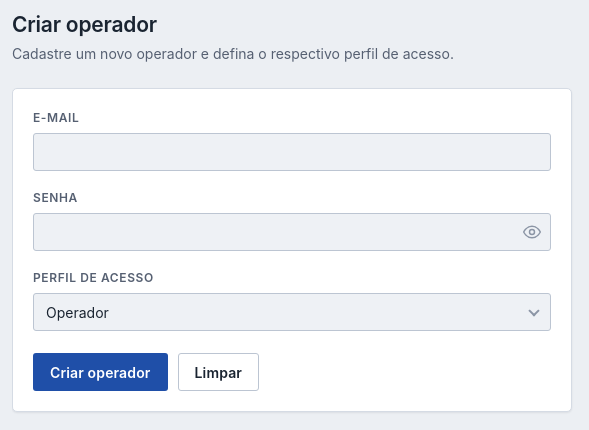
CreateOperatorPage › envia e-mail, senha e perfil e mostra identificador, e-mail e perfil do operador criado
Type "nova@example.test" into the field labelled "E-mail". click: (292, 152)
box: left=33, top=133, right=551, bottom=171
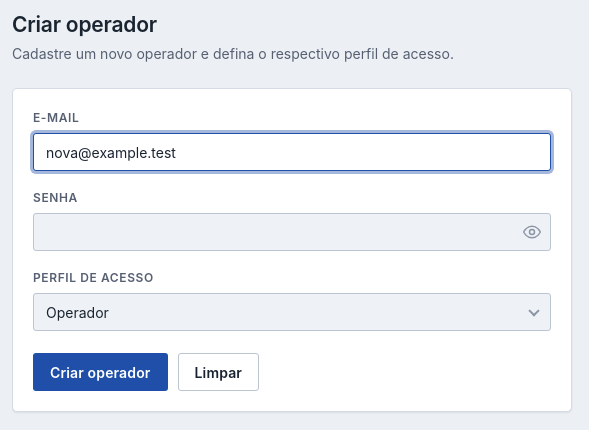
Type "senha-secreta" into the password field labelled "Senha". click: (292, 232)
box: left=33, top=213, right=551, bottom=251
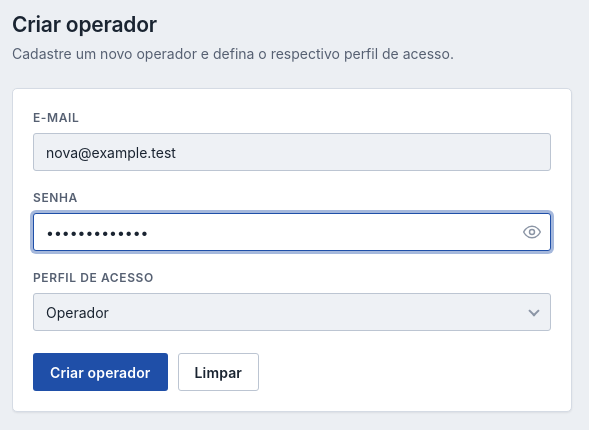
Select "Administrador" in the dropdown labelled "Perfil de acesso". click: (292, 312)
box: left=33, top=293, right=551, bottom=331
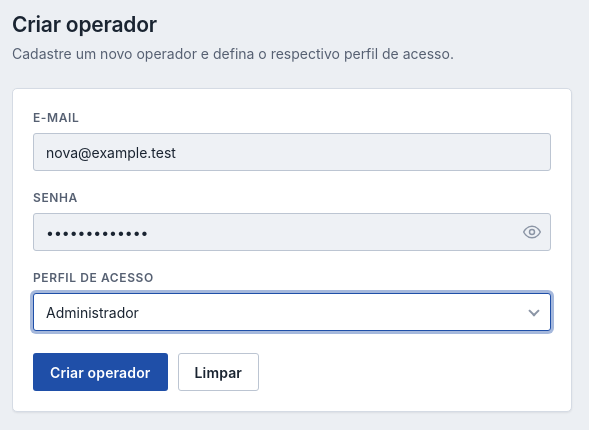
Click the button "Criar operador". click: (100, 372)
box: left=33, top=353, right=168, bottom=391
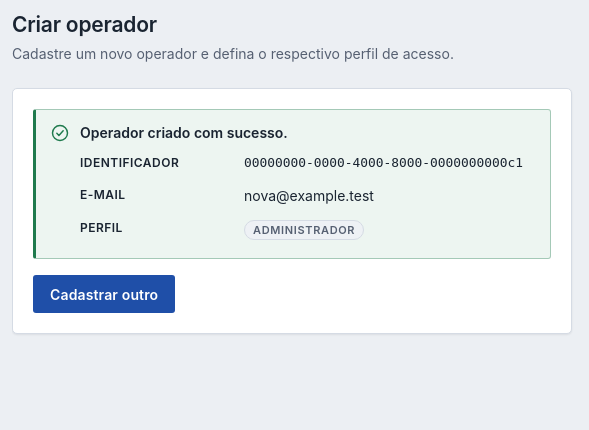
Now the message shows "Operador criado com sucesso.", box left=80, top=124, right=288, bottom=141
Now the message shows "00000000-0000-4000-8000-0000000000c1", box left=244, top=155, right=523, bottom=170
Now the message shows "nova@example.test", box left=244, top=187, right=374, bottom=204
